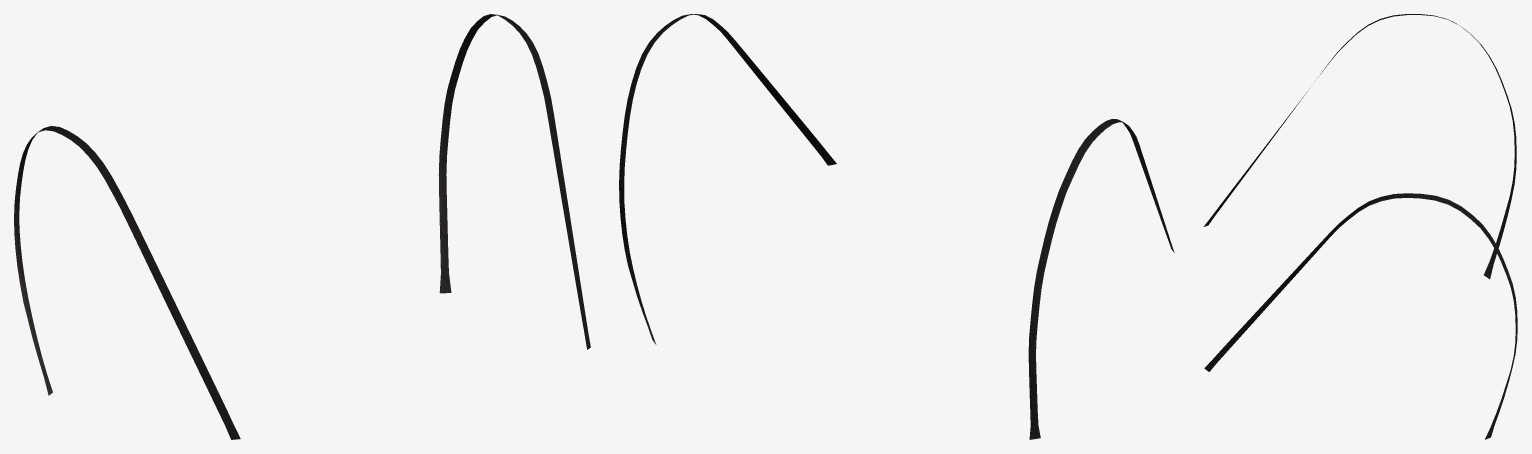
Rendered from tirantes.glb.
3 views of the same model, side by side, from view 1: azimuth 30°, elevation 25°; view 2: azimuth 150°, elevation 25°; view 3: azimuth 270°, elevation 25° (orthographic). The views are drawn at different scales.
Visible parts, largest first — view 1: Cloth; view 2: Cloth; view 3: Cloth.
Part boxes in pixels (x1,y1,x2,y2): Cloth: (14, 14, 590, 439); Cloth: (619, 14, 1174, 439); Cloth: (1203, 14, 1517, 439).
Size of the model in its own units: 0.2742 by 0.174 by 0.1922.
1 material, 1 textured.
